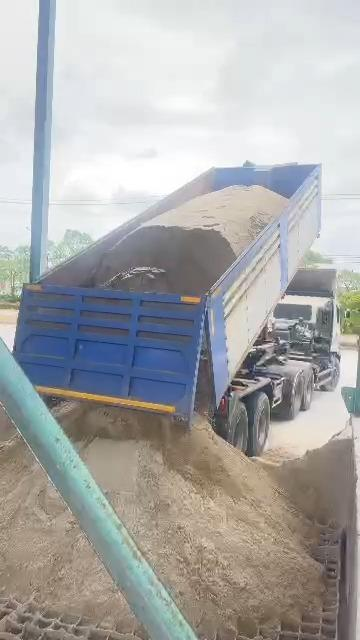sand: (38, 342, 323, 637), (78, 408, 322, 637), (0, 404, 136, 630), (0, 437, 139, 632), (90, 186, 287, 294), (89, 187, 286, 294), (255, 434, 359, 525), (286, 467, 290, 473), (299, 471, 302, 477), (141, 632, 145, 636)
